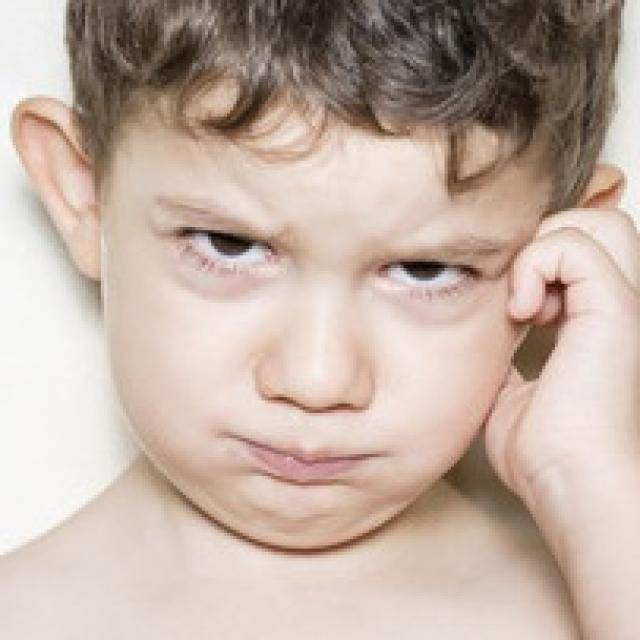Depress: (101, 81, 584, 551)
